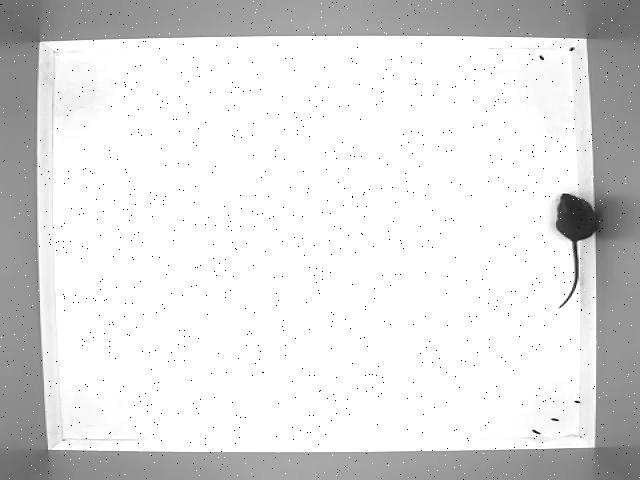Tikus: (554, 190, 598, 310)
